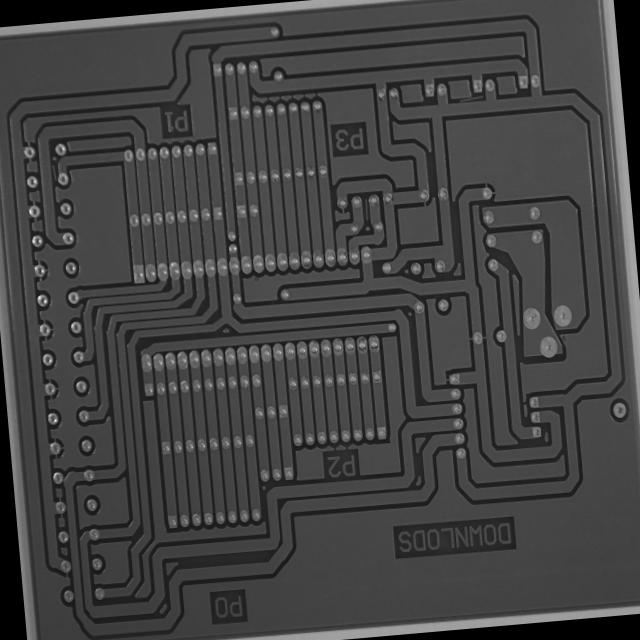spurious_copper: (456, 91, 486, 106), (362, 196, 372, 222), (50, 162, 59, 182)
